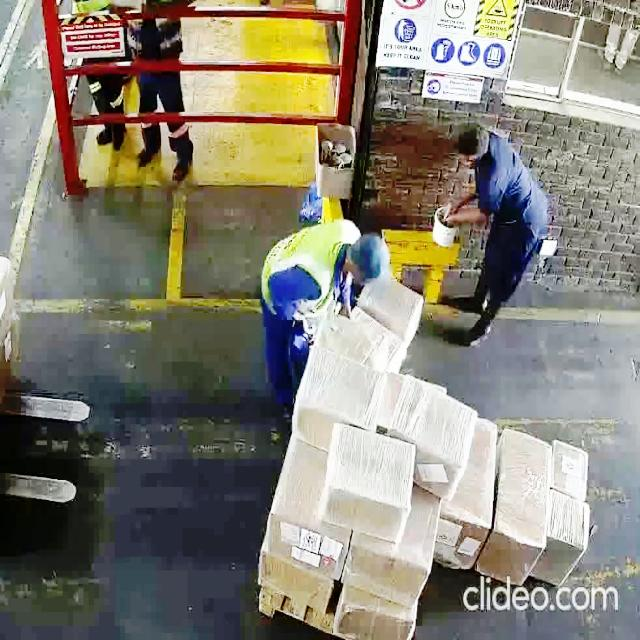Box: (326, 423, 420, 540), (292, 341, 381, 432), (492, 434, 544, 576), (396, 376, 472, 467), (266, 504, 345, 572), (346, 538, 426, 604), (257, 549, 331, 608), (544, 490, 585, 588), (338, 596, 411, 640), (549, 433, 594, 498)
